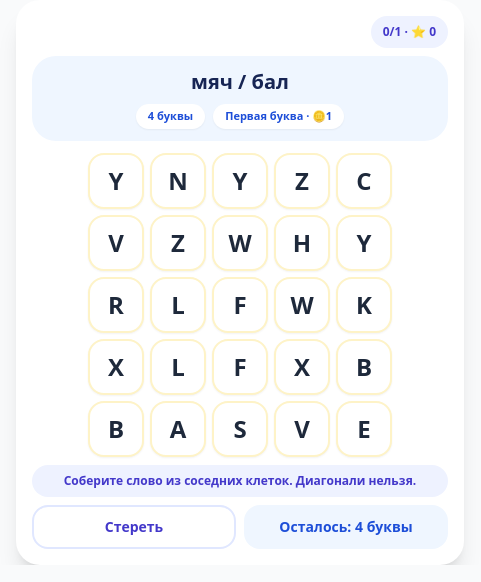
Scenario: Snake first-letter hint economy › does not reveal the first letter when the child has no coin to spend
Click the button "Первая буква · 🪙1": (279,116) left=213, top=104, right=344, bottom=128
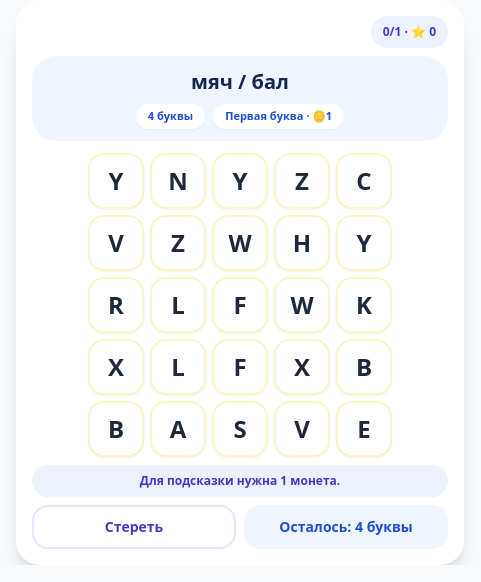
Expected: the text "Для подсказки нужна 1 монета." is shown, left=32, top=464, right=448, bottom=496
